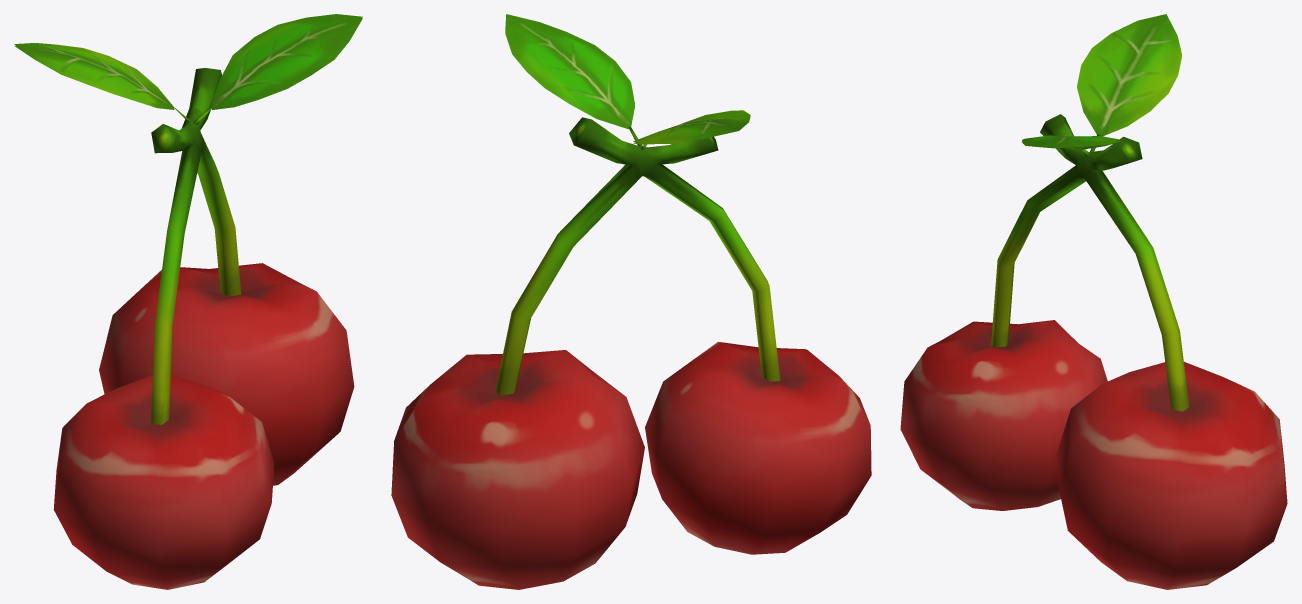
Rendered from cherry.fbx.
3 renders of one model, left to right at view 1: azimuth 30°, elevation 25°; view 2: azimuth 150°, elevation 25°; view 3: azimuth 270°, elevation 25°, orthographic. The views are drawn at different scales.
Visible parts, largest first — view 1: cherry; view 2: cherry; view 3: cherry.
Boxes of the visible parts, bbox=[...] form: cherry: bbox=[14, 14, 362, 589]; cherry: bbox=[391, 14, 871, 589]; cherry: bbox=[900, 14, 1287, 589].
Bounding box in the file's own units: 1.9 × 2.48 × 1.91.
